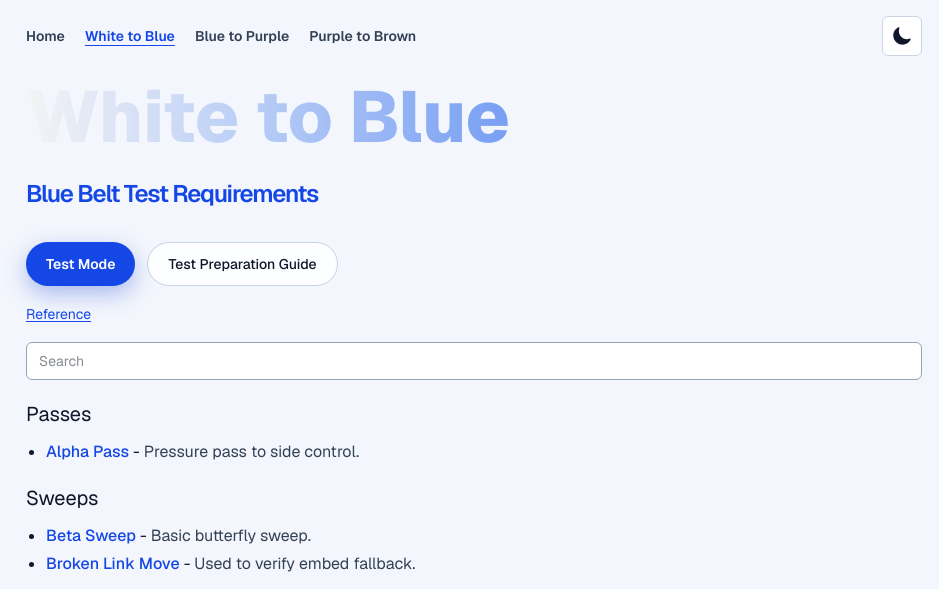
Scenario: BeltMovesPage › filters move results from search input and shows empty state
Expected: the link "Alpha Pass" is shown, [46, 441, 129, 462]
Expected: the link "Beta Sweep" is shown, [46, 525, 136, 546]
Type "guard" into the field named "Search techniques" at (474, 361), box [26, 342, 922, 380]
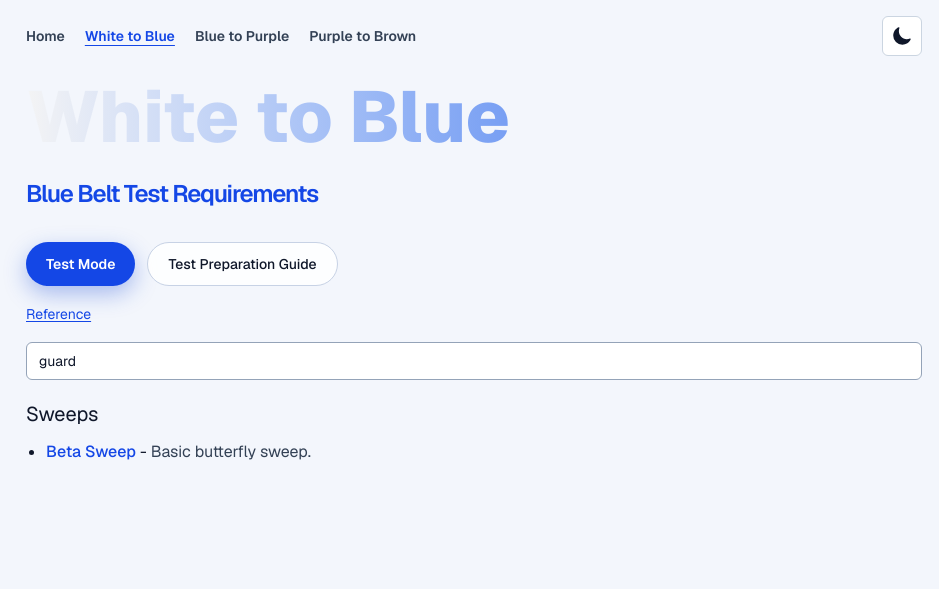
Expected: the link "Beta Sweep" is shown, [46, 441, 136, 462]
Now the link "Alpha Pass" is gone
Replace the text in the field named "Search techniques" with "no-matches-here" at (474, 361), box [26, 342, 922, 380]
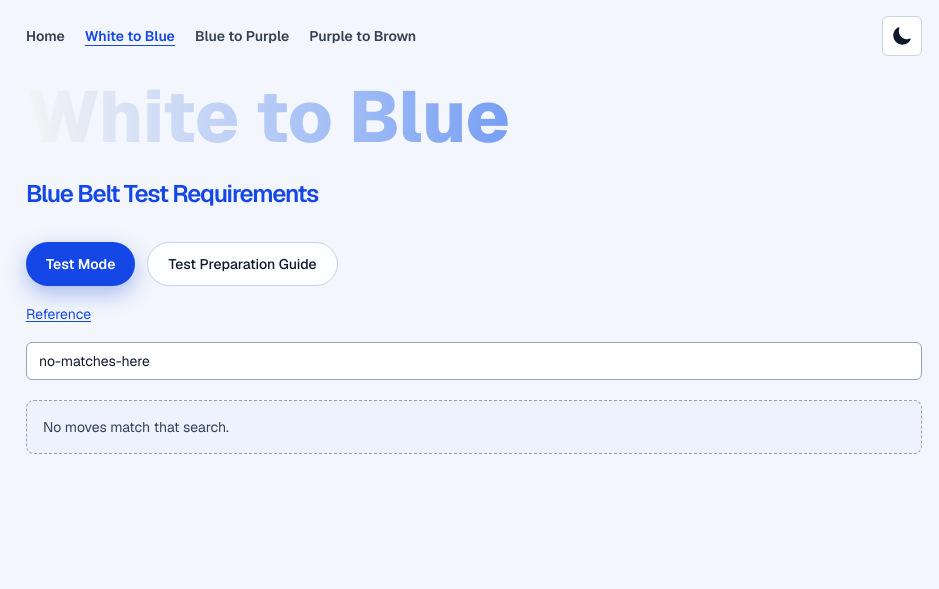
Now the text "No moves match that search." is shown, box [26, 400, 922, 454]
